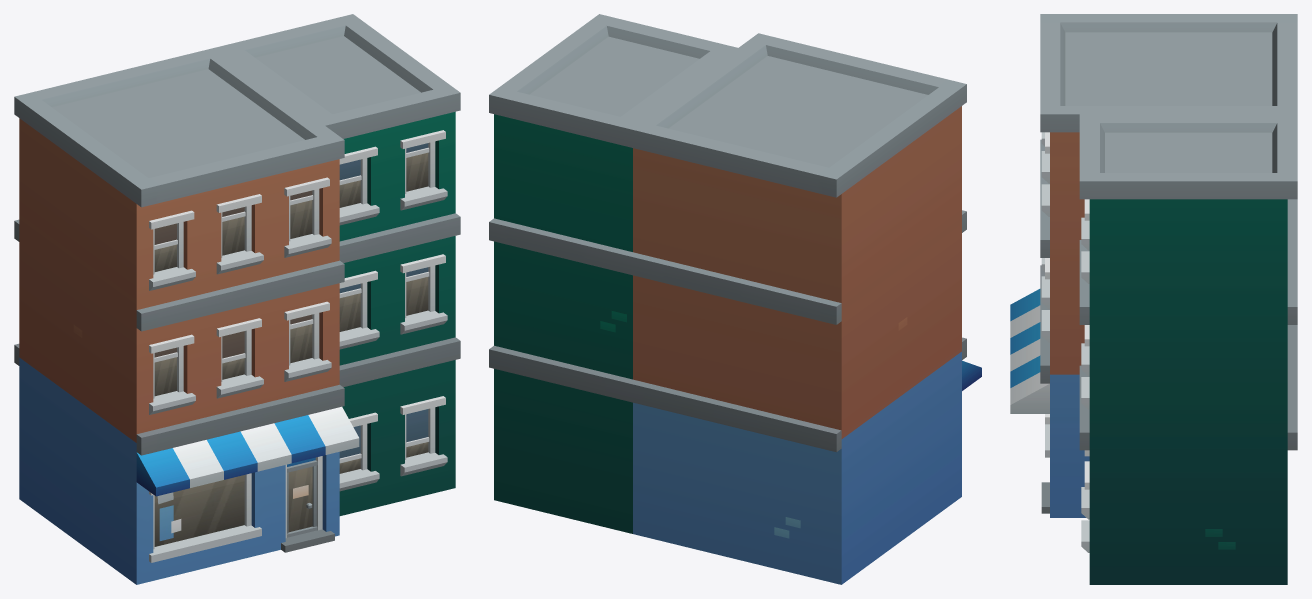
Rendered from building-wide.glb.
3 renders of one model, left to right at view 1: azimuth 30°, elevation 25°; view 2: azimuth 150°, elevation 25°; view 3: azimuth 270°, elevation 25°, orthographic. The views are drawn at different scales.
Visible parts, largest first — view 1: building_G_withoutBase; view 2: building_G_withoutBase; view 3: building_G_withoutBase.
Boxes of the visible parts, x1,y1,x2,y2 form: building_G_withoutBase: (14, 14, 460, 584); building_G_withoutBase: (489, 14, 981, 584); building_G_withoutBase: (1010, 14, 1297, 584).
Size of the model in its own units: 8.92 by 10 by 6.44.
1 material, 1 textured.
